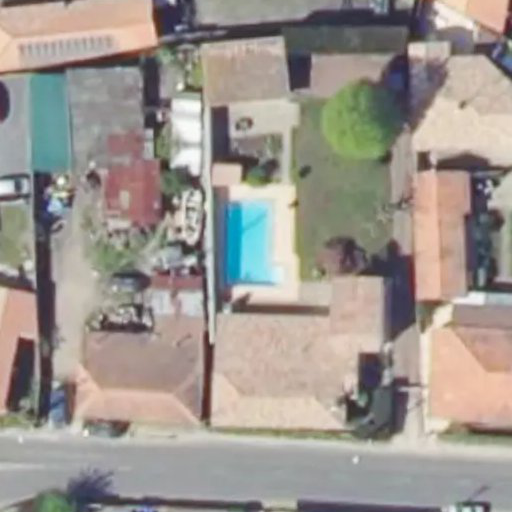pool: (226, 199, 284, 284)
